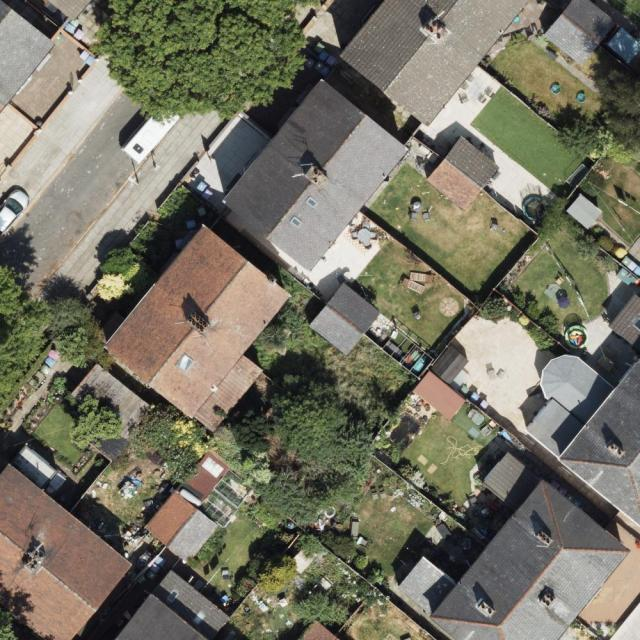roof: (392, 450, 630, 640), (98, 224, 295, 435), (220, 76, 414, 276), (524, 298, 640, 527), (338, 0, 533, 126), (0, 463, 134, 640), (111, 570, 229, 640), (0, 0, 58, 114), (306, 280, 381, 355), (292, 616, 343, 640)
skylight: (172, 349, 198, 375), (189, 607, 209, 628), (287, 214, 303, 231), (166, 587, 179, 604), (302, 197, 318, 210), (632, 317, 640, 332)
